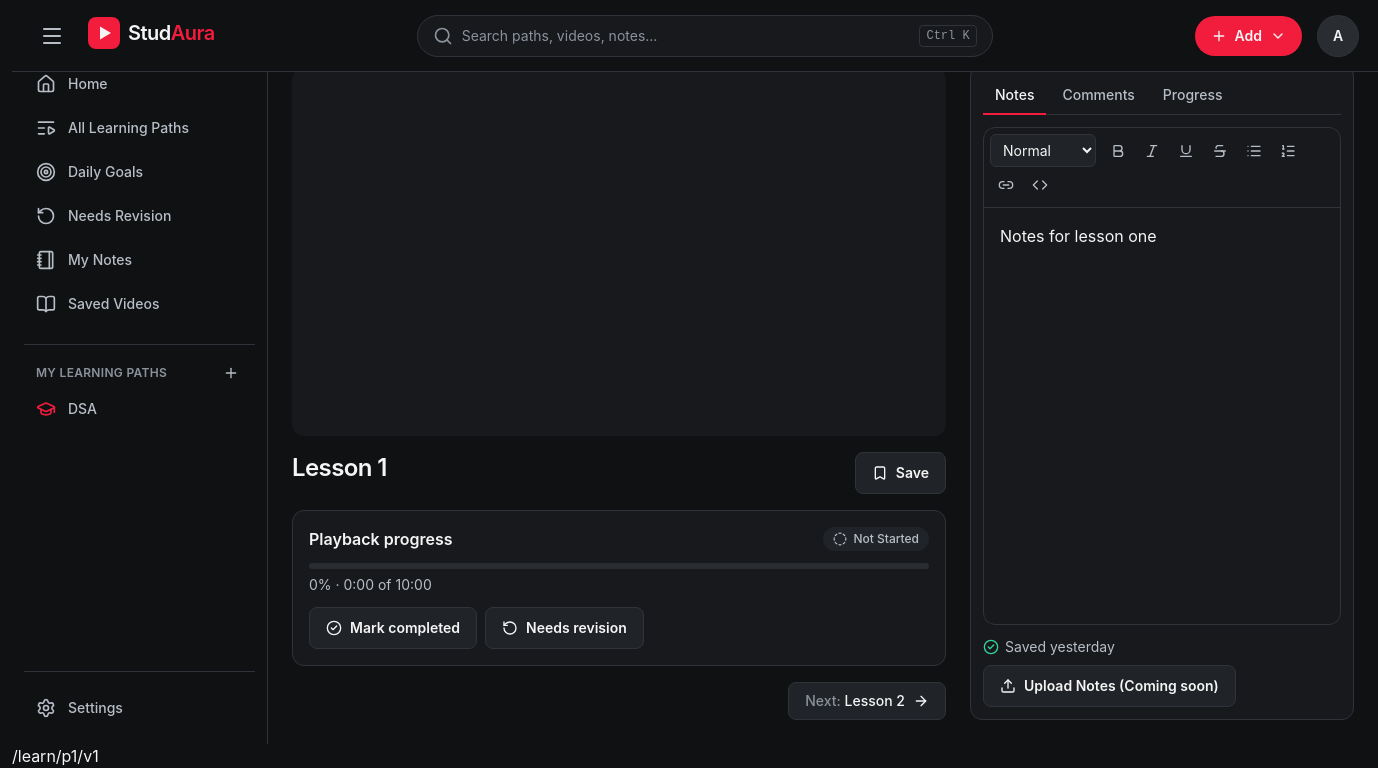
Scenario: switching videos › shows the next video's note, never the previous one's
This screenshot has width=1378, height=768.
(page scrolled)
Expected: the field labelled "Note" reads "Notes for lesson one", [1000,226,1157,246]
Click the link "Next: Lesson 2" at (867, 701), box [788,682,946,720]
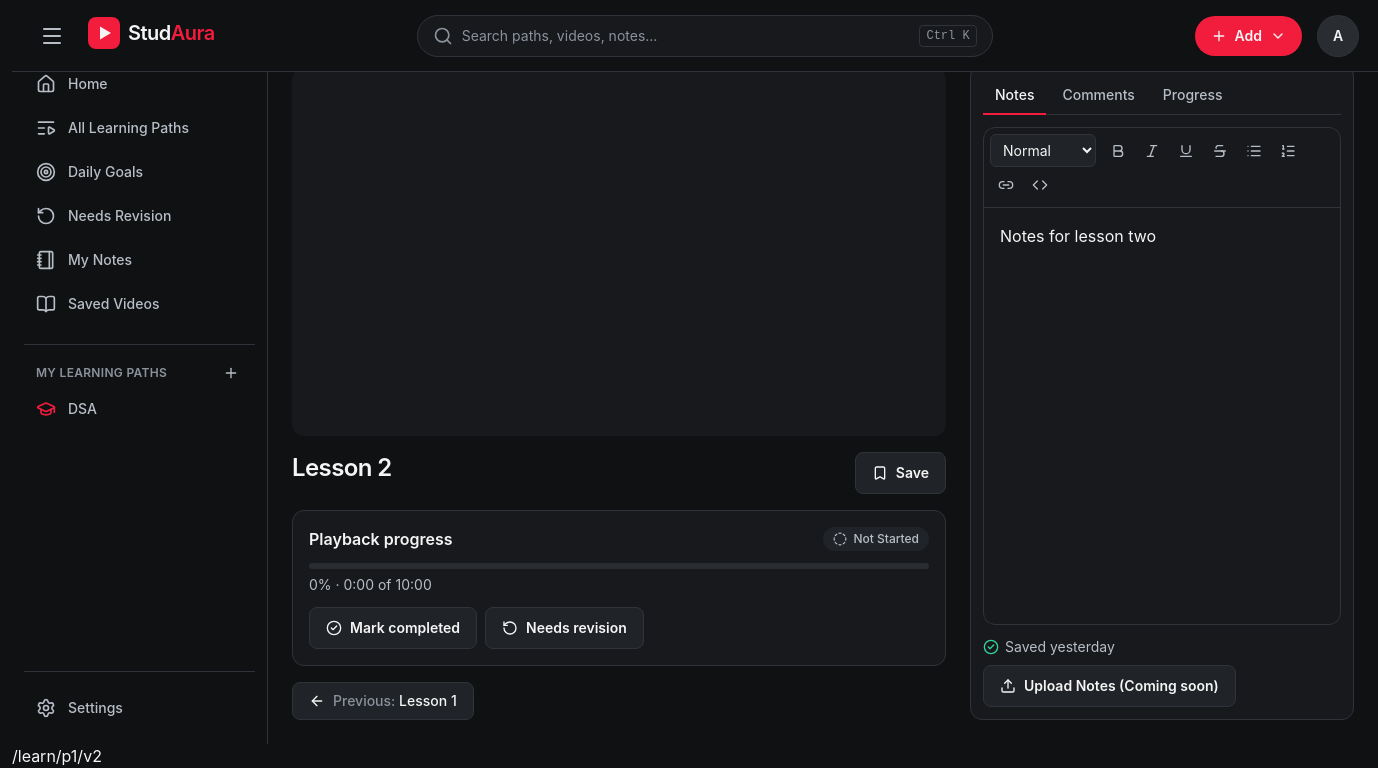
Result: the field labelled "Note" reads "Notes for lesson two" at [1000,226,1156,246]
Result: the field labelled "Note" no longer shows "lesson one" at [1000,226,1156,246]
